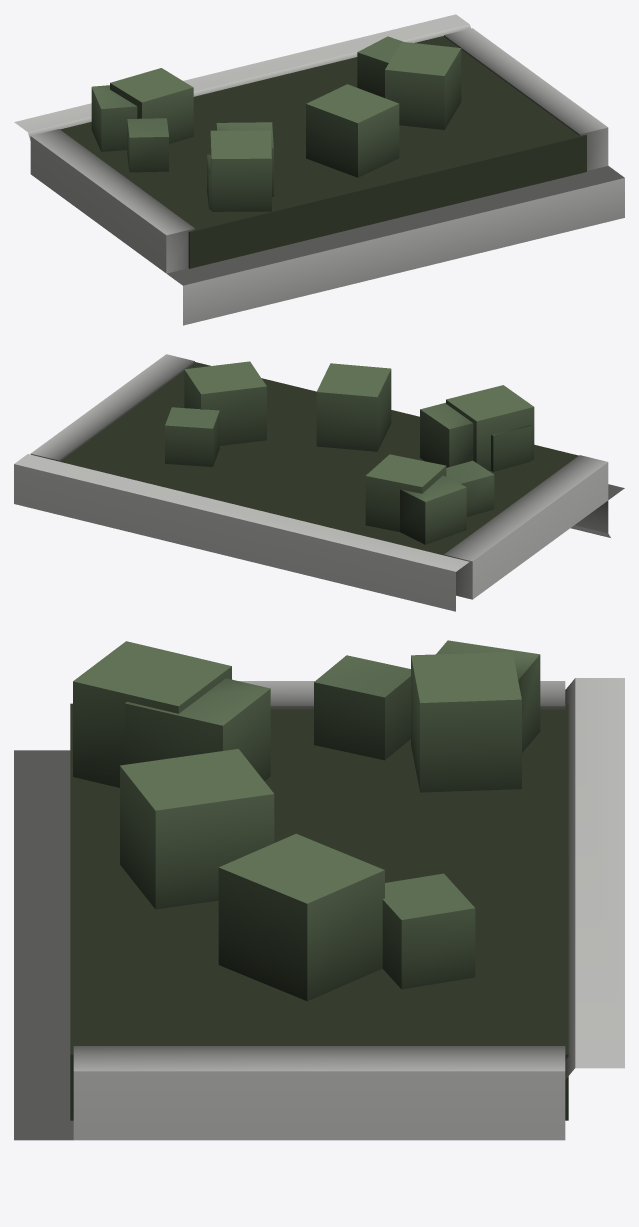
Rendered from flower_bed.lod2.glb.
The picture shows the model from 3 angles, top to bottom: view 1: azimuth 30°, elevation 25°; view 2: azimuth 150°, elevation 25°; view 3: azimuth 270°, elevation 25°; orthographic projection. The views are drawn at different scales.
Parts seen in each view (by area): view 1: props_flower_bed.lod2; view 2: props_flower_bed.lod2; view 3: props_flower_bed.lod2.
Boxes of the visible parts, box(x1,y1,x2,y2) form: props_flower_bed.lod2: box(14, 14, 624, 325); props_flower_bed.lod2: box(14, 354, 624, 611); props_flower_bed.lod2: box(14, 640, 624, 1140).
Bounding box in the file's own units: 2.78 × 0.7881 × 1.84.
